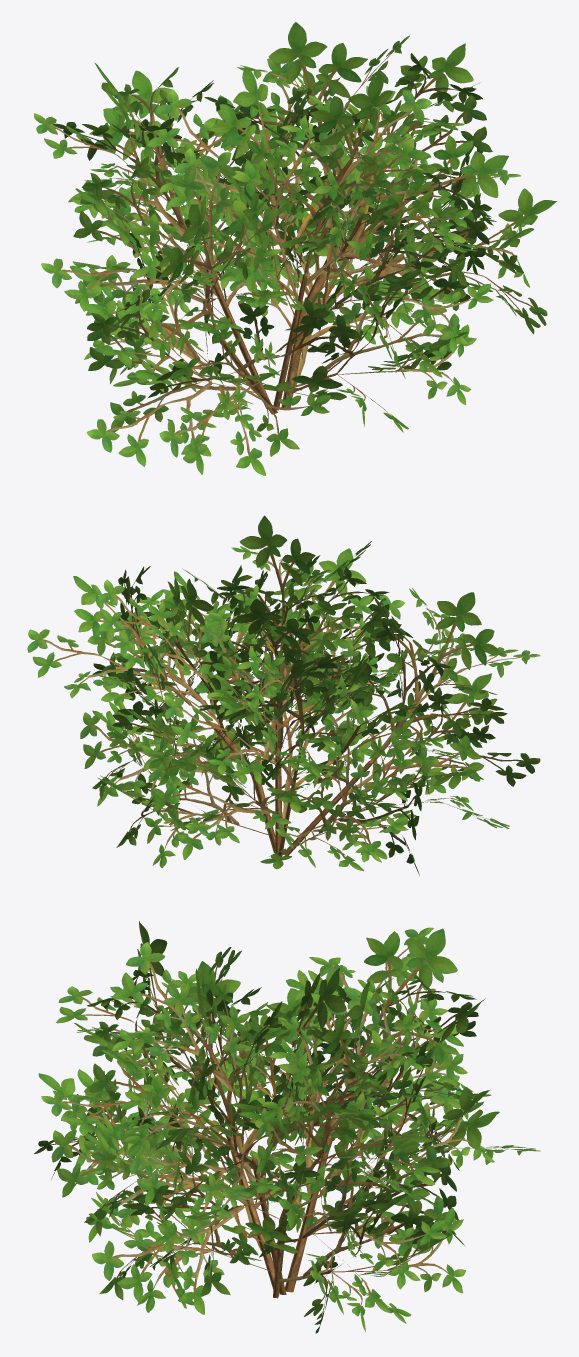
File: MS_ShrubTree03.fbx
3 renders of one model, top to bottom at view 1: azimuth 30°, elevation 25°; view 2: azimuth 150°, elevation 25°; view 3: azimuth 270°, elevation 25°, orthographic. The views are drawn at different scales.
Visible parts, largest first — view 1: MS_ShrubTree03; view 2: MS_ShrubTree03; view 3: MS_ShrubTree03.
Part boxes in pixels (x1=…): MS_ShrubTree03: x1=34, y1=22, x2=556, y2=475; MS_ShrubTree03: x1=27, y1=515, x2=540, y2=875; MS_ShrubTree03: x1=34, y1=921, x2=540, y2=1333.
Size of the model in its own units: 285 by 187 by 257.
